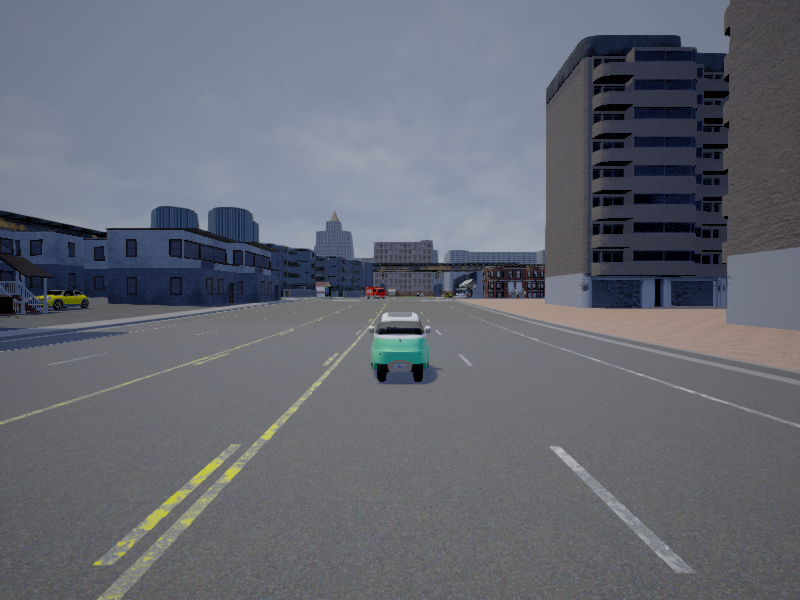Benign: (369, 311, 431, 385), (34, 289, 90, 309), (364, 286, 387, 301)
